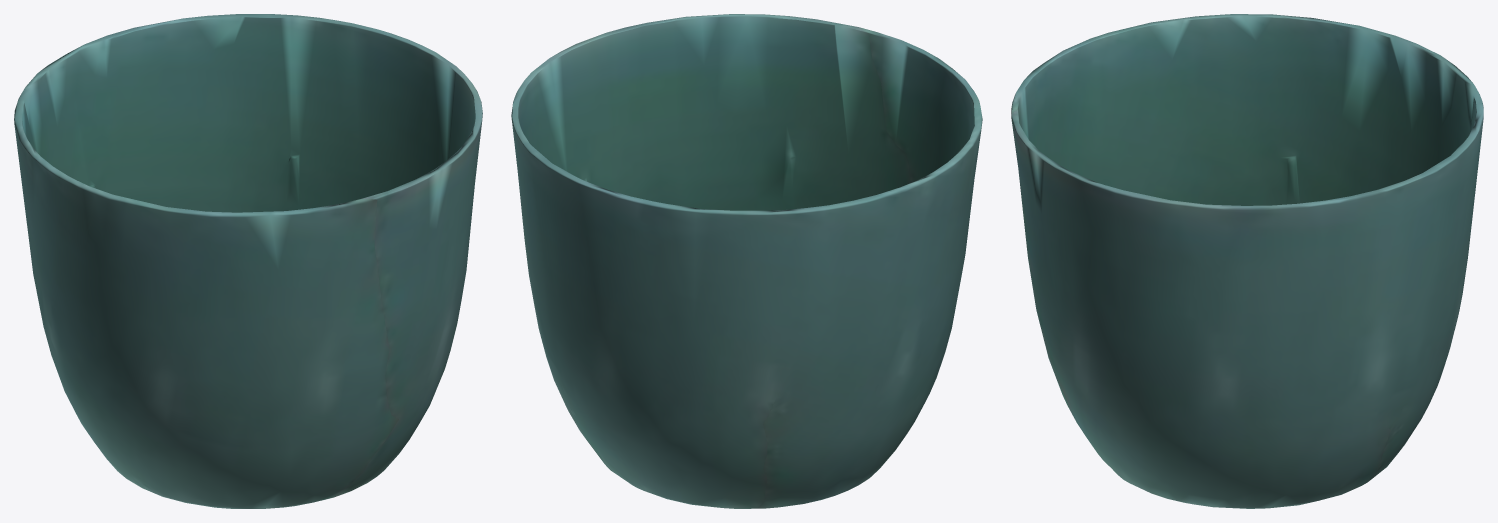
Rendered from Ecoforms_Plant_Container_SB9Turquoise-high.glb.
3 views of the same model, side by side, from view 1: azimuth 30°, elevation 25°; view 2: azimuth 150°, elevation 25°; view 3: azimuth 270°, elevation 25° (orthographic).
Parts seen in each view (by area): view 1: Ecoforms_Plant_Container_SB9Turquoise; view 2: Ecoforms_Plant_Container_SB9Turquoise; view 3: Ecoforms_Plant_Container_SB9Turquoise.
Part boxes in pixels (x1,y1,x2,y2): Ecoforms_Plant_Container_SB9Turquoise: (14, 14, 482, 508); Ecoforms_Plant_Container_SB9Turquoise: (511, 14, 982, 508); Ecoforms_Plant_Container_SB9Turquoise: (1011, 14, 1483, 508).
Bounding box in the file's own units: 0.2997 × 0.241 × 0.2992.
Materials: 1 (1 with a texture image).
